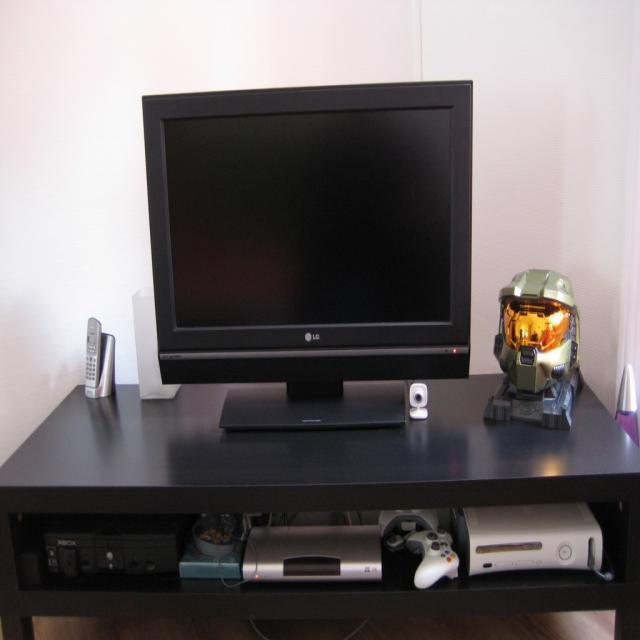others: (118, 67, 504, 444)
